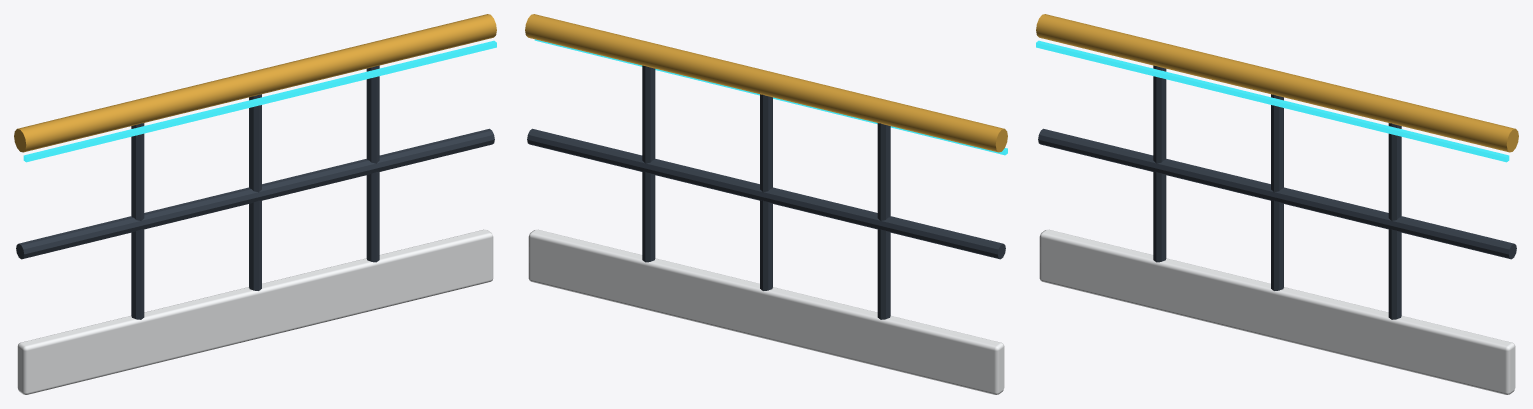
The model's file is railing_2m.glb.
3 renders of one model, left to right at view 1: azimuth 30°, elevation 25°; view 2: azimuth 150°, elevation 25°; view 3: azimuth 330°, elevation 25°, orthographic.
Parts seen in each view (by area): view 1: railing_2m_body; view 2: railing_2m_body; view 3: railing_2m_body.
Boxes of the visible parts, x1,y1,x2,y2 form: railing_2m_body: (14,14,496,394); railing_2m_body: (525,14,1007,394); railing_2m_body: (1036,14,1518,394).
Bounding box in the file's own units: 2 × 1.08 × 0.09.
